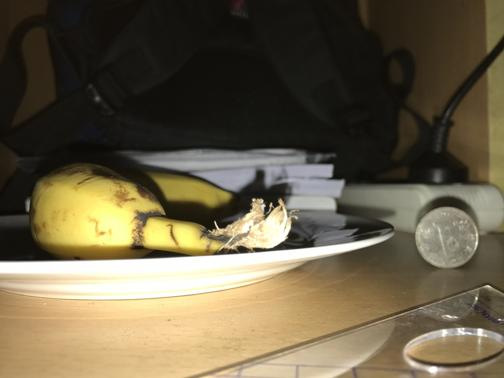banana: (31, 163, 241, 257)
coin: (413, 207, 479, 267)
